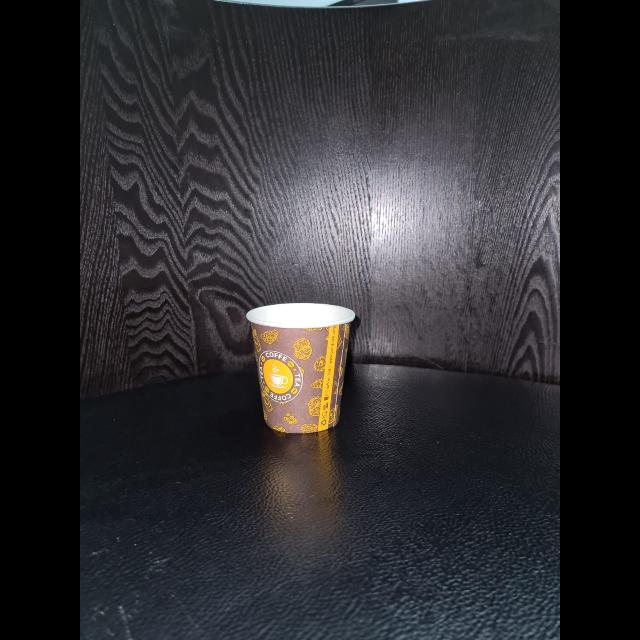trash: (246, 298, 354, 437)
